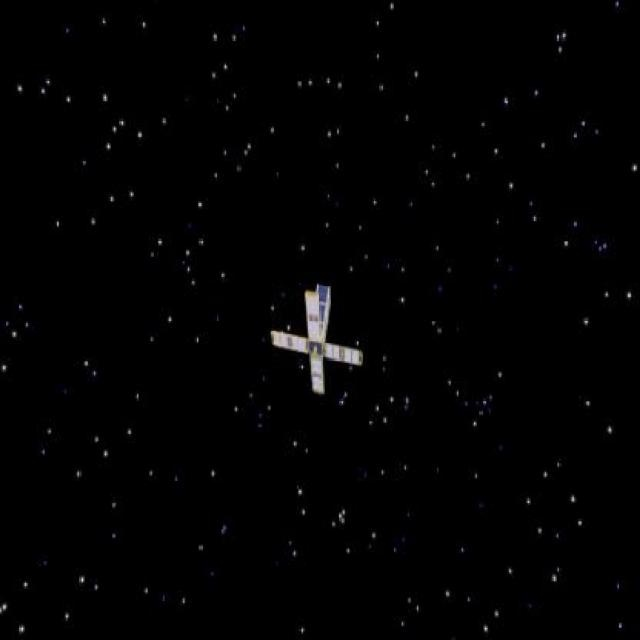satellite: (259, 283, 369, 404)
